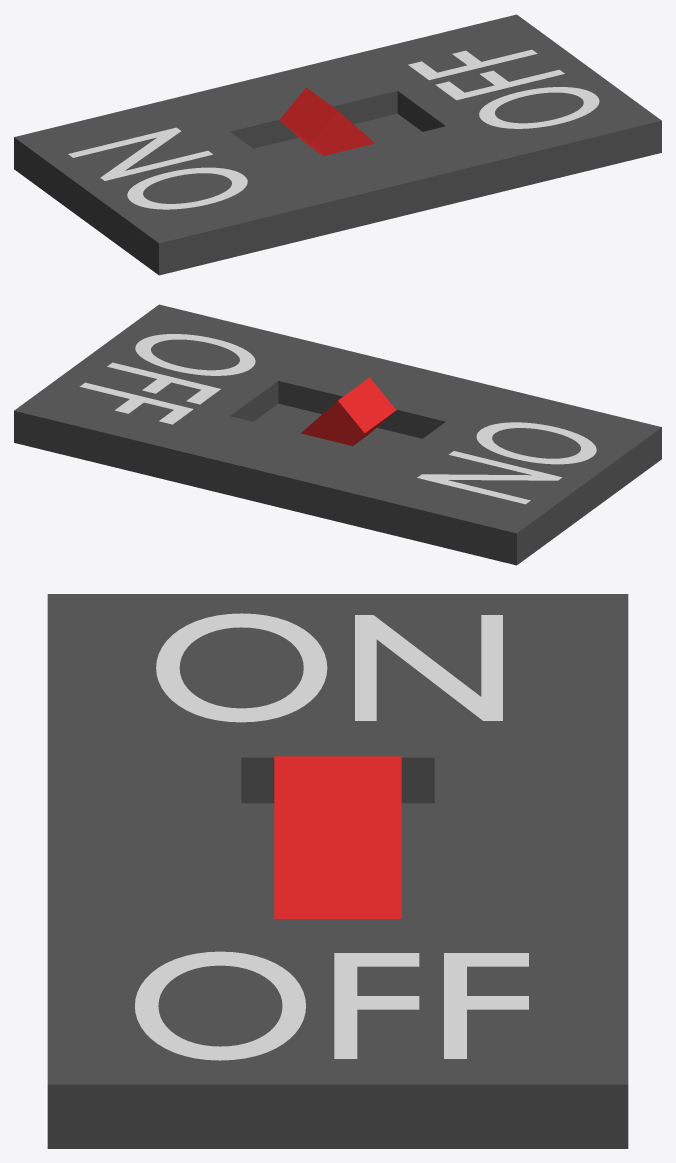
The model's file is acmakapamav2.fbx.
The picture shows the model from 3 angles, top to bottom: view 1: azimuth 30°, elevation 25°; view 2: azimuth 150°, elevation 25°; view 3: azimuth 270°, elevation 25°; orthographic projection. The views are drawn at different scales.
Visible parts, largest first — view 1: Cube, Text, Text.001, Cube.001; view 2: Cube, Text, Text.001, Cube.001; view 3: Cube, Cube.001, Text, Text.001.
Boxes of the visible parts, x1=… form: Cube: x1=14, y1=14, x2=661, y2=275; Text: x1=408, y1=49, x2=599, y2=128; Text.001: x1=68, y1=127, x2=247, y2=209; Cube.001: x1=279, y1=87, x2=374, y2=155; Cube: x1=14, y1=304, x2=661, y2=565; Text: x1=79, y1=334, x2=255, y2=424; Text.001: x1=417, y1=422, x2=596, y2=504; Cube.001: x1=301, y1=377, x2=396, y2=445; Cube: x1=47, y1=594, x2=628, y2=1148; Cube.001: x1=274, y1=756, x2=401, y2=918; Text: x1=135, y1=951, x2=528, y2=1060; Text.001: x1=156, y1=613, x2=502, y2=722.
Bounding box in the file's own units: 164 × 28.66 × 82.
